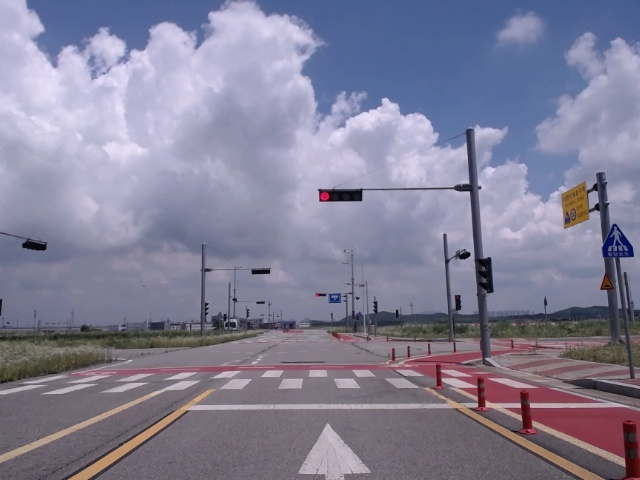red_4: (319, 190, 363, 202)
